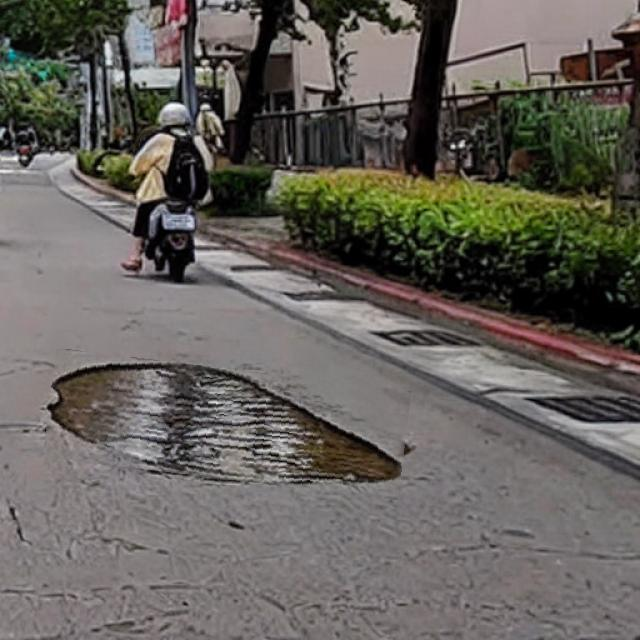puddle: (47, 359, 409, 491)
